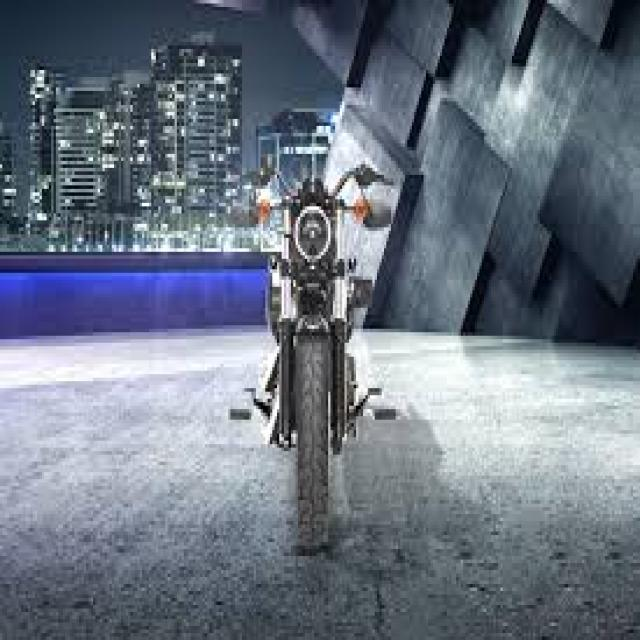Bike: (238, 137, 384, 558)
